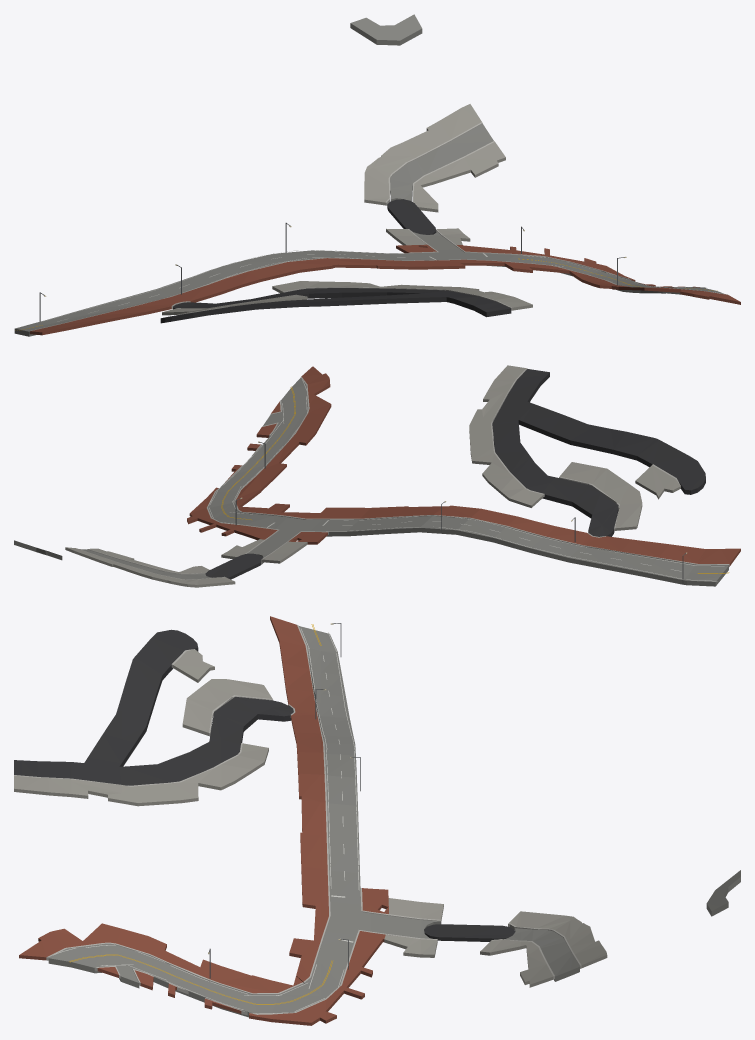
3 views of the same model, one above another, from view 1: azimuth 30°, elevation 25°; view 2: azimuth 150°, elevation 25°; view 3: azimuth 270°, elevation 25° (orthographic). The views are drawn at different scales.
Size of the model in its own units: 149 by 31 by 146.
